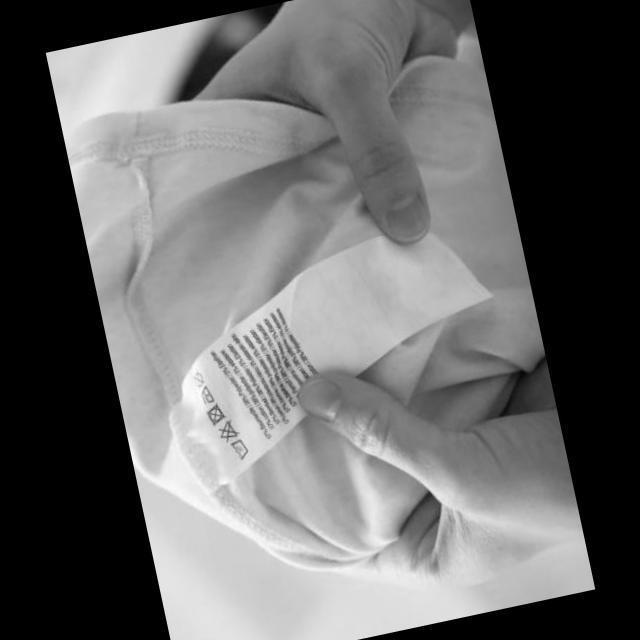30C: (228, 435, 252, 462)
DN_bleach: (215, 415, 241, 444)
DN_dry_clean: (190, 368, 207, 390)
DN_tumble_dry: (204, 398, 228, 426)
iron_low: (198, 382, 215, 404)
